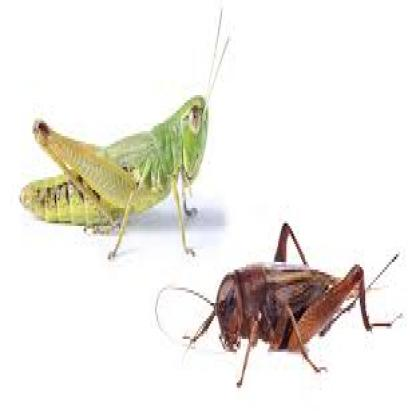grasshopper: (13, 8, 232, 254), (153, 223, 408, 382)
